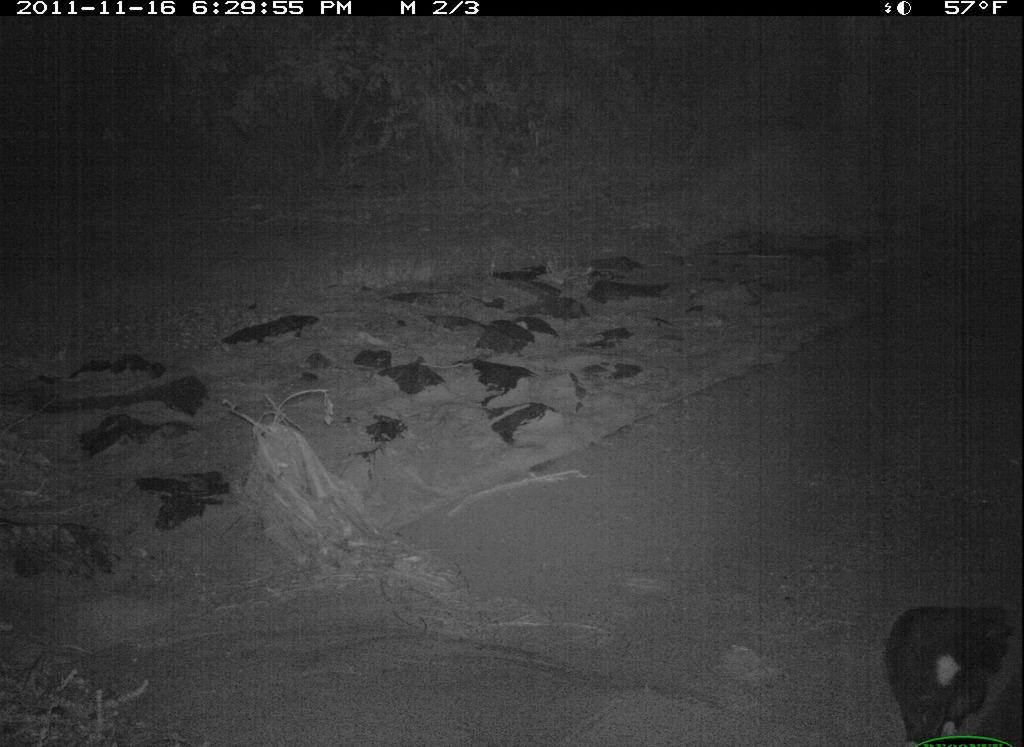cat: (866, 589, 1013, 747)
